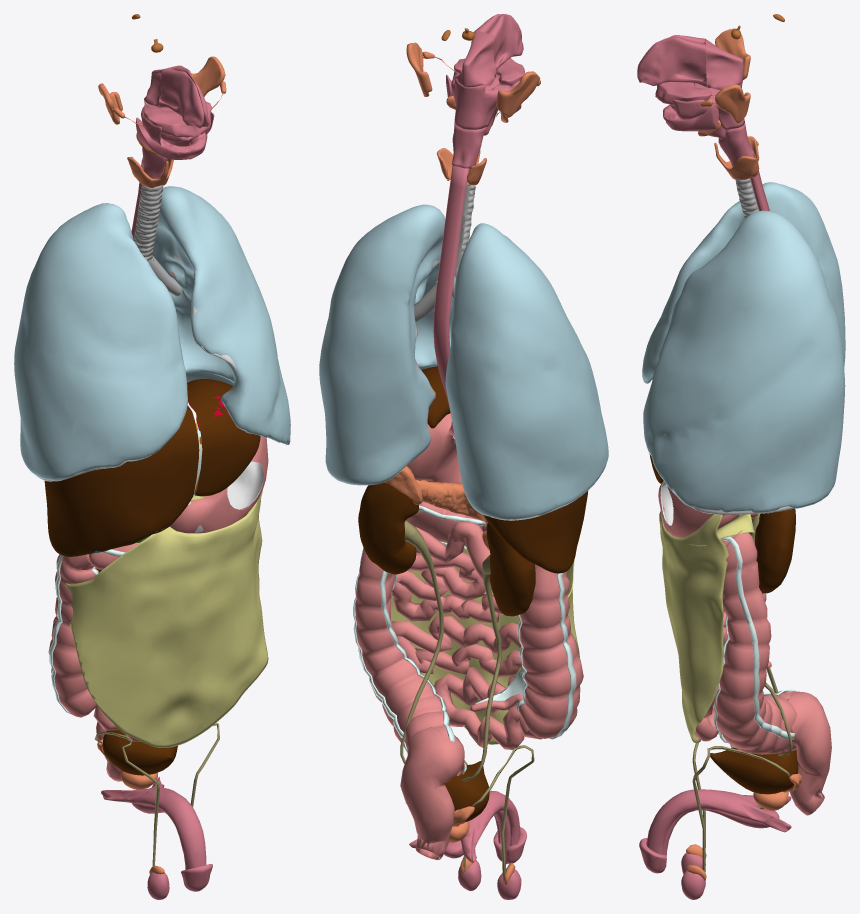
The model's file is visceral-systems.glb.
3 views of the same model, side by side, from view 1: azimuth 30°, elevation 25°; view 2: azimuth 150°, elevation 25°; view 3: azimuth 270°, elevation 25° (orthographic). The views are drawn at different scales.
Visible parts, largest first — view 1: object 4, object 3, object 2, object 1, Parotid gland.l, Ductus deferens.r; view 2: object 2, object 4, object 1, object 3, Parotid gland.r, Ductus deferens.r, Parotid gland.l; view 3: object 4, object 2, object 1, object 3, Parotid gland.l, Ductus deferens.l, Parotid gland.r, Testis.l.
Boxes of the visible parts, bbox=[...] form: object 4: bbox=[14, 186, 290, 480]; object 3: bbox=[65, 14, 268, 747]; object 2: bbox=[36, 157, 275, 789]; object 1: bbox=[101, 65, 214, 891]; Parotid gland.l: bbox=[191, 56, 225, 96]; Ductus deferens.r: bbox=[94, 731, 159, 866]; object 2: bbox=[353, 148, 594, 864]; object 4: bbox=[319, 204, 608, 520]; object 1: bbox=[409, 14, 526, 863]; object 3: bbox=[391, 28, 579, 744]; Parotid gland.r: bbox=[496, 71, 540, 117]; Ductus deferens.r: bbox=[472, 745, 534, 882]; Parotid gland.l: bbox=[406, 42, 432, 96]; object 4: bbox=[642, 182, 845, 513]; object 2: bbox=[649, 136, 831, 815]; object 1: bbox=[637, 35, 791, 873]; object 3: bbox=[659, 14, 784, 743]; Parotid gland.l: bbox=[715, 84, 750, 123]; Ductus deferens.l: bbox=[692, 746, 790, 871]; Parotid gland.r: bbox=[715, 28, 750, 79]; Testis.l: bbox=[681, 871, 705, 899].
Size of the model in its own units: 0.2634 by 0.8929 by 0.1925.
